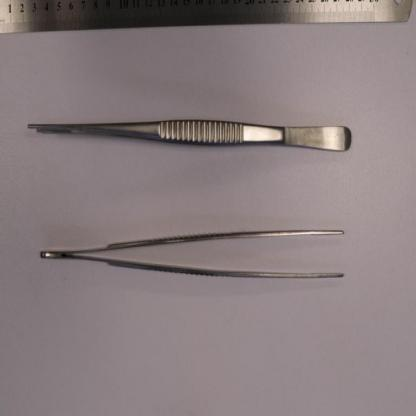DeBakey Dissector: (40, 229, 345, 278), (27, 119, 350, 152)
